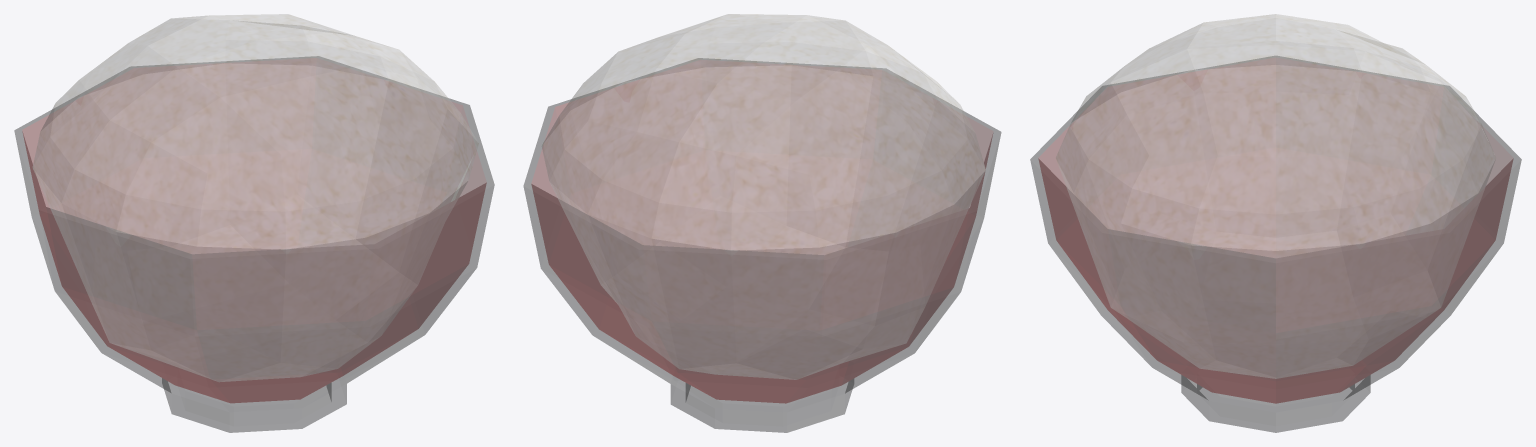
The model's file is rice.glb.
The picture shows the model from 3 angles, left to right: view 1: azimuth 30°, elevation 25°; view 2: azimuth 150°, elevation 25°; view 3: azimuth 270°, elevation 25°; orthographic projection.
Parts seen in each view (by area): view 1: bowl of rice; view 2: bowl of rice; view 3: bowl of rice.
Boxes of the visible parts, x1,y1,x2,y2 form: bowl of rice: (14,14,494,432); bowl of rice: (523,14,1001,432); bowl of rice: (1030,14,1521,432).
Size of the model in its own units: 0.18 by 0.1407 by 0.18.
3 materials, 1 textured.
